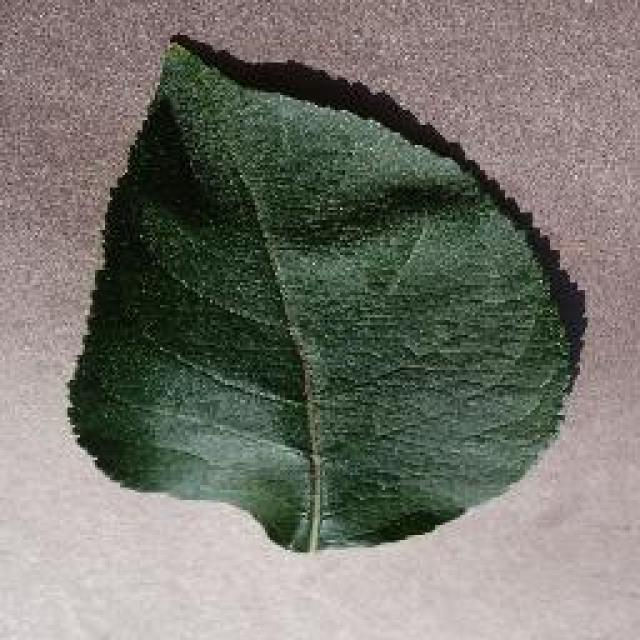apple healthy: (62, 30, 588, 555)
